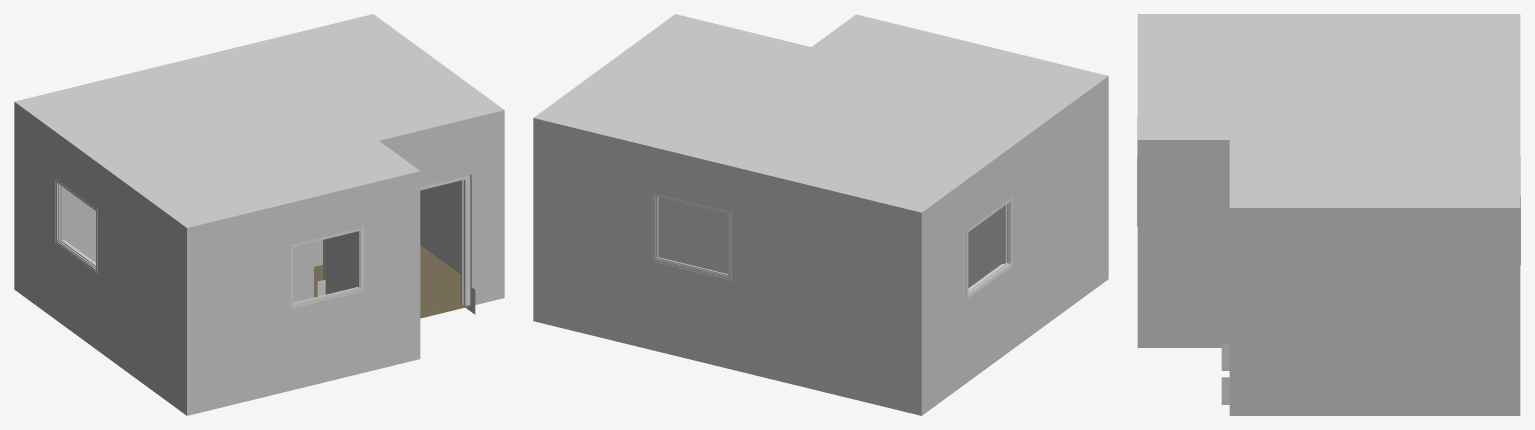
Rendered from finalroom.fbx.
3 views of the same model, side by side, from view 1: azimuth 30°, elevation 25°; view 2: azimuth 150°, elevation 25°; view 3: azimuth 270°, elevation 25° (orthographic). The views are drawn at different scales.
Parts seen in each view (by area): view 1: Walls, Floor, DoorFrame, WindowFrame, WindowFrame.001; view 2: Walls, WindowFrame.002, WindowFrame.001; view 3: Walls, CTRL_Baseboard.
Part boxes in pixels (left/top/right/bottom): Walls: left=14, top=14, right=504, bottom=415; Floor: left=314, top=245, right=470, bottom=318; DoorFrame: left=420, top=175, right=470, bottom=305; WindowFrame: left=291, top=227, right=363, bottom=308; WindowFrame.001: left=55, top=179, right=97, bottom=273; Walls: left=533, top=14, right=1108, bottom=415; WindowFrame.002: left=652, top=193, right=731, bottom=281; WindowFrame.001: left=966, top=197, right=1012, bottom=299; Walls: left=1137, top=14, right=1520, bottom=415; CTRL_Baseboard: left=1221, top=343, right=1229, bottom=404.
Size of what is drawn, in the model's own units: 601 by 310 by 502.
